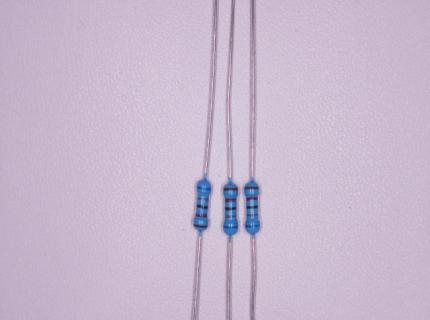Black band: (196, 204, 208, 209), (225, 207, 237, 211), (246, 205, 258, 209)
Blue band: (223, 225, 238, 229), (245, 224, 260, 228), (197, 187, 211, 190)
Brown band: (193, 223, 208, 228), (223, 187, 238, 191), (244, 186, 259, 190)
Grey band: (197, 197, 209, 201), (247, 214, 258, 217), (225, 215, 236, 218)
Red band: (225, 198, 237, 203), (195, 213, 207, 218), (246, 197, 258, 201)
